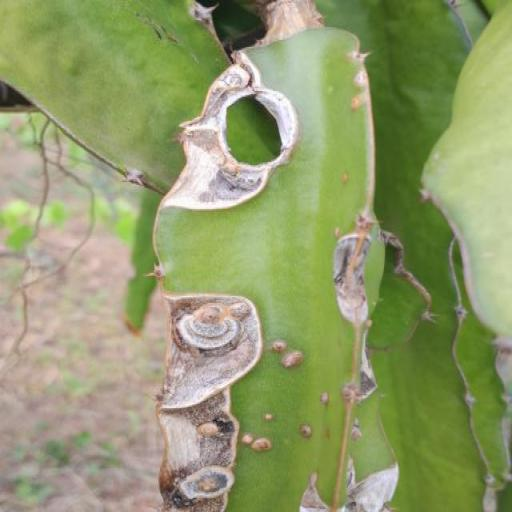stemcanker: (257, 397, 278, 434), (334, 162, 356, 196), (315, 377, 333, 417), (295, 418, 316, 445), (332, 223, 341, 240)
